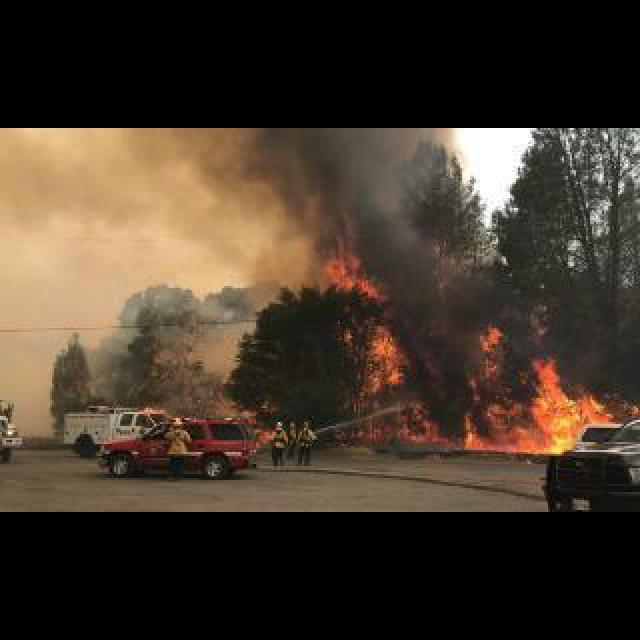fire: (332, 356, 624, 448), (326, 208, 376, 296)
smoke: (2, 126, 458, 228), (376, 124, 491, 388)
